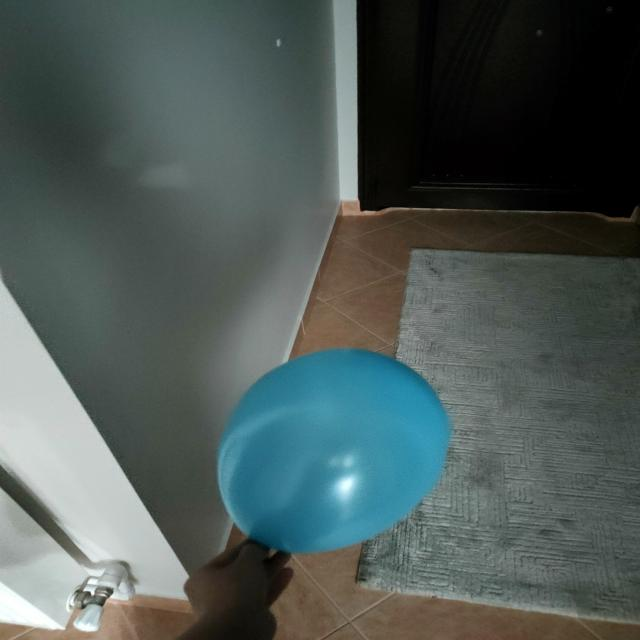blue: (219, 350, 449, 554)
